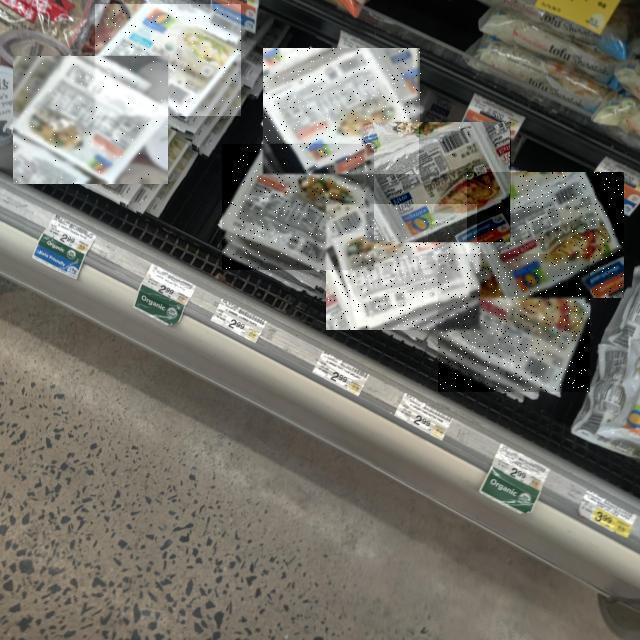Tofu: (438, 254, 590, 392), (264, 48, 422, 174), (13, 56, 168, 184), (470, 173, 624, 299), (326, 204, 480, 330), (222, 144, 374, 270), (366, 123, 514, 243), (95, 5, 241, 117)
